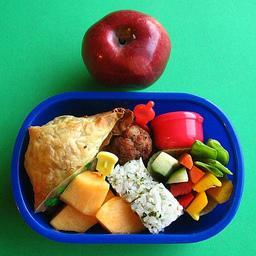apple: (80, 9, 172, 90)
